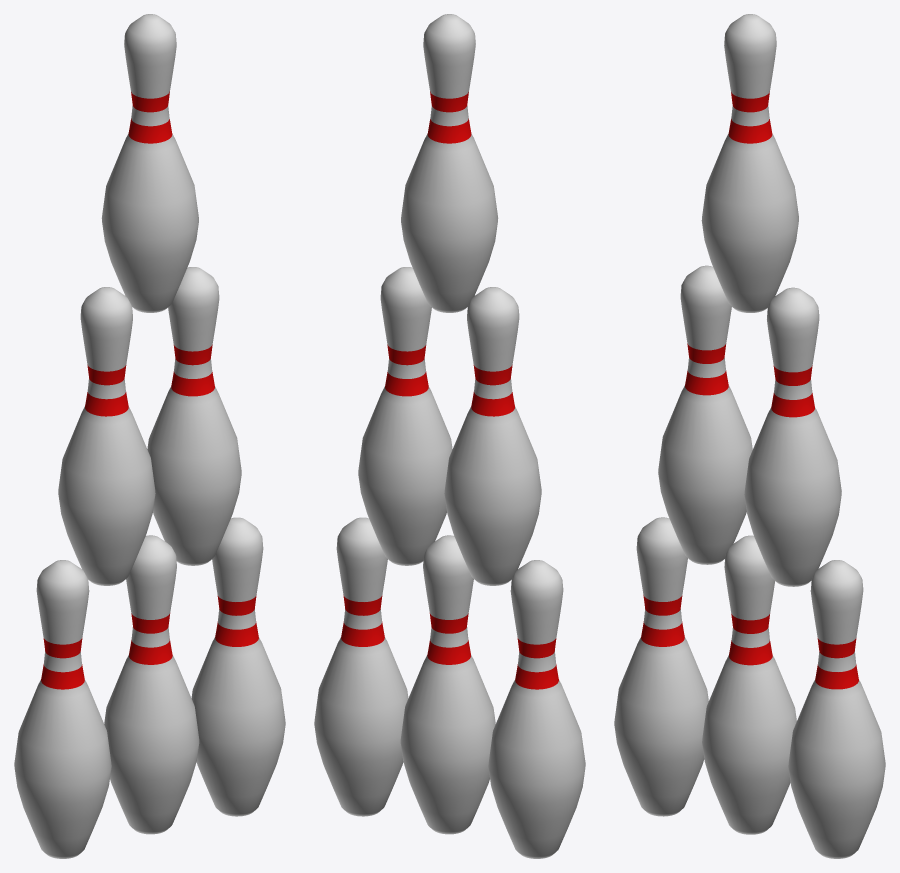
File: Pin.fbx
3 renders of one model, left to right at view 1: azimuth 30°, elevation 25°; view 2: azimuth 150°, elevation 25°; view 3: azimuth 330°, elevation 25°, orthographic.
Parts seen in each view (by area): view 1: Pin, Pin.004, Pin.005, Pin.001, Pin.002, Pin.003; view 2: Pin, Pin.004, Pin.005, Pin.001, Pin.002, Pin.003; view 3: Pin.002, Pin.003, Pin.005, Pin, Pin.004, Pin.001.
Boxes of the visible parts, box(x1,y1,x2,y2) form: Pin: box(14, 560, 111, 858); Pin.004: box(58, 287, 155, 585); Pin.005: box(101, 14, 198, 312); Pin.001: box(104, 535, 199, 834); Pin.002: box(191, 517, 285, 816); Pin.003: box(147, 267, 241, 565); Pin: box(488, 560, 585, 858); Pin.004: box(444, 287, 541, 585); Pin.005: box(401, 14, 498, 312); Pin.001: box(400, 535, 495, 834); Pin.002: box(314, 517, 408, 816); Pin.003: box(358, 267, 452, 565); Pin.002: box(788, 560, 885, 858); Pin.003: box(744, 287, 841, 586); Pin.005: box(701, 14, 798, 312); Pin: box(614, 517, 708, 816); Pin.004: box(658, 265, 752, 564); Pin.001: box(702, 535, 796, 834).
Bounding box in the file's own units: 198 × 597 × 64.85.
